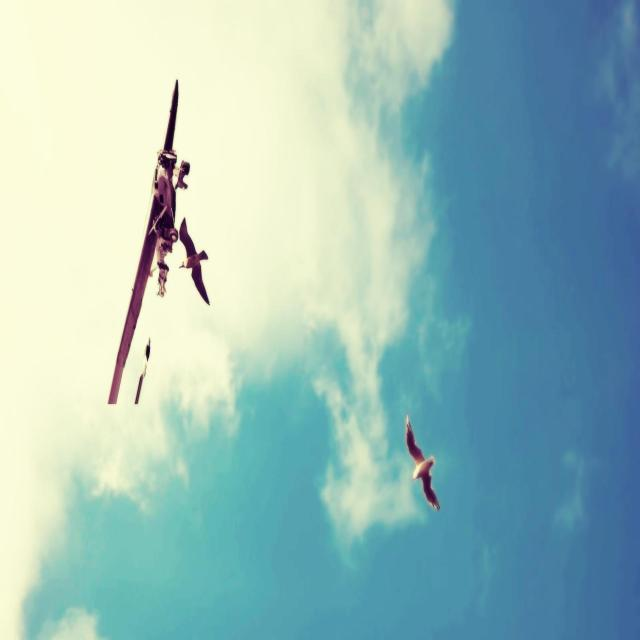airplane: (107, 78, 191, 404)
